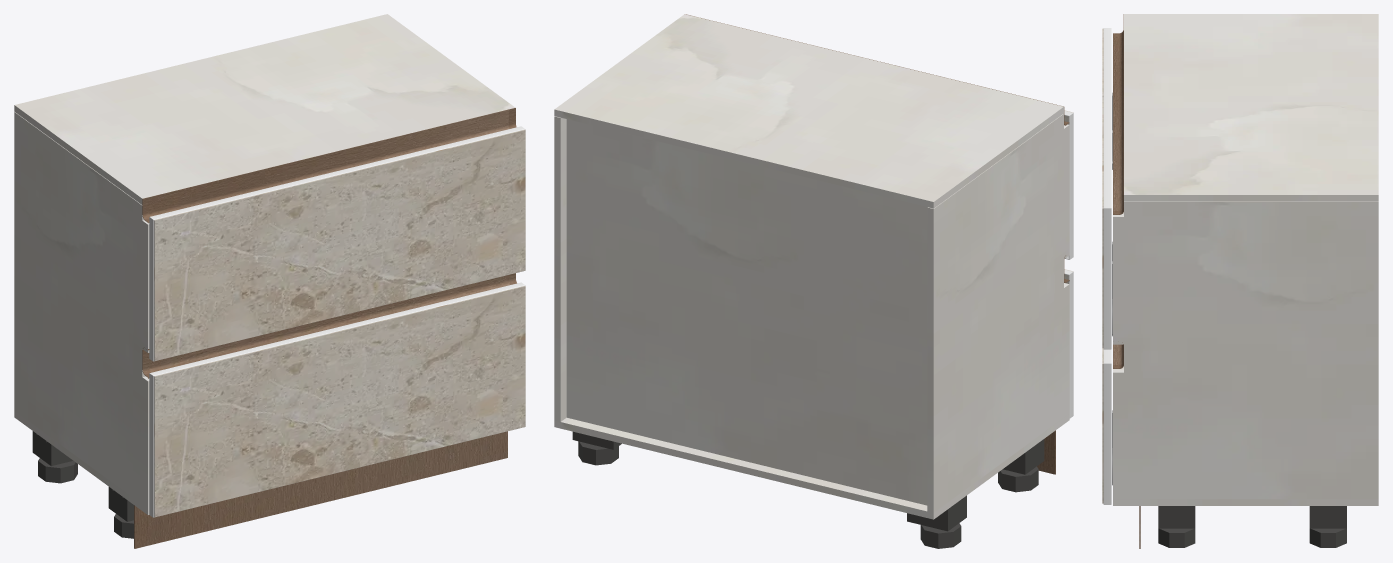
3 views of the same model, side by side, from view 1: azimuth 30°, elevation 25°; view 2: azimuth 150°, elevation 25°; view 3: azimuth 270°, elevation 25° (orthographic). The views are drawn at different scales.
Size of what is drawn, in the model's own units: 0.9 by 0.82 by 0.5809.
Materials: 7 (3 with a texture image).
